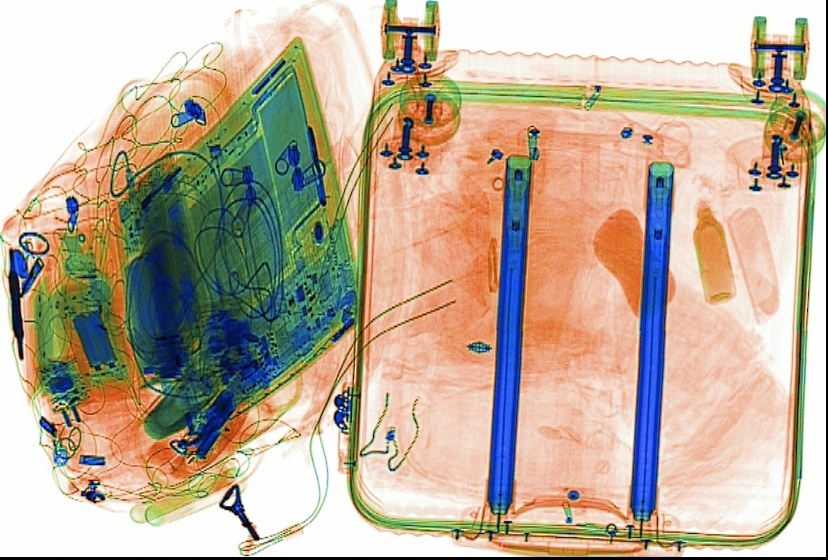powerbank: (108, 148, 205, 370)
